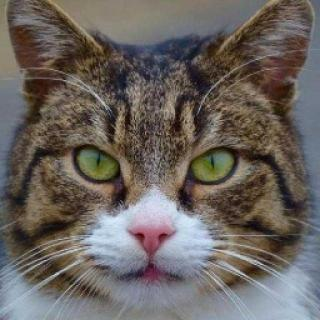cat: (10, 0, 314, 298)
nose: (122, 208, 181, 262)
